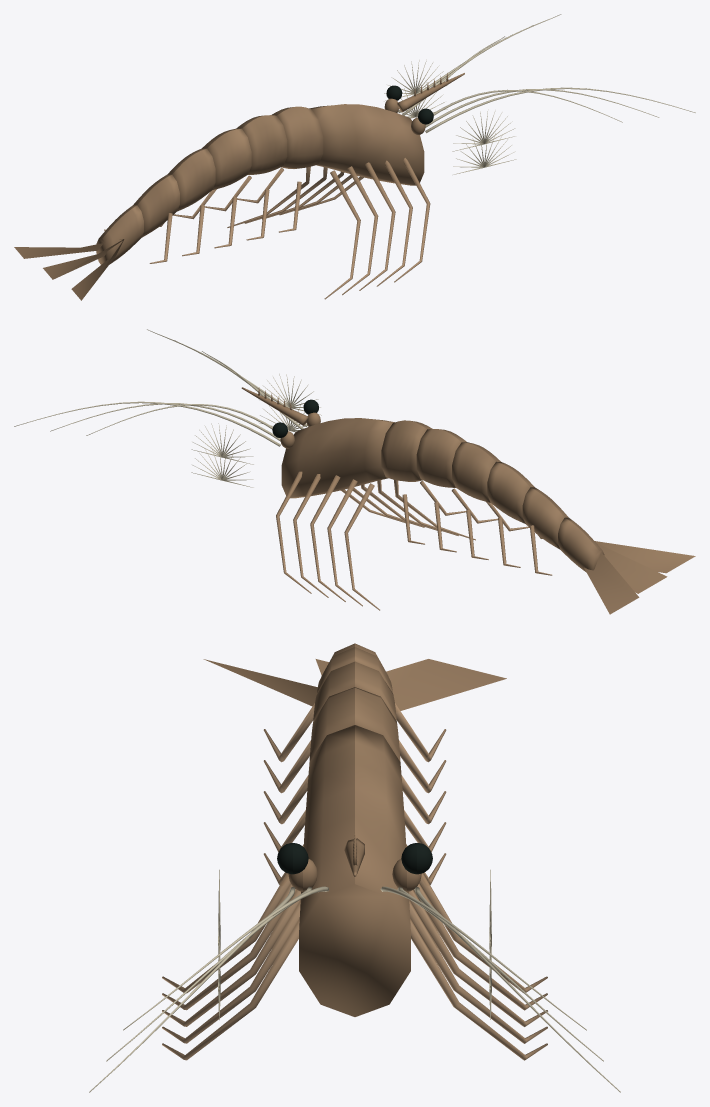
Rendered from bambooshrimp-mobile.glb.
The picture shows the model from 3 angles, top to bottom: view 1: azimuth 30°, elevation 25°; view 2: azimuth 150°, elevation 25°; view 3: azimuth 270°, elevation 25°; orthographic projection. The views are drawn at different scales.
Visible parts, largest first — view 1: carapace, pereiopod, antenna, pleopod, filter-feeding-fan, serrated-rostrum; view 2: carapace, pereiopod, antenna, pleopod, filter-feeding-fan, serrated-rostrum; view 3: carapace, pereiopod, pleopod, antenna, eye, eye-stalk, filter-feeding-fan.
Boxes of the visible parts, <box> form: carapace: <box>14,104,424,300</box>; pereiopod: <box>227,158,430,299</box>; antenna: <box>398,14,695,133</box>; pleopod: <box>104,167,301,263</box>; filter-feeding-fan: <box>384,59,516,174</box>; serrated-rostrum: <box>397,73,464,111</box>; carapace: <box>281,418,695,614</box>; pereiopod: <box>276,471,475,610</box>; antenna: <box>14,329,307,446</box>; pleopod: <box>402,480,552,575</box>; filter-feeding-fan: <box>191,374,321,487</box>; serrated-rostrum: <box>241,387,308,425</box>; carapace: <box>203,643,506,1016</box>; pereiopod: <box>162,844,547,1060</box>; pleopod: <box>263,703,446,884</box>; antenna: <box>89,886,620,1092</box>; eye: <box>277,843,432,874</box>; eye-stalk: <box>288,859,421,891</box>; filter-feeding-fan: <box>218,869,491,1019</box>.
Size of the model in its own units: 1.18 by 0.2938 by 0.4707.
